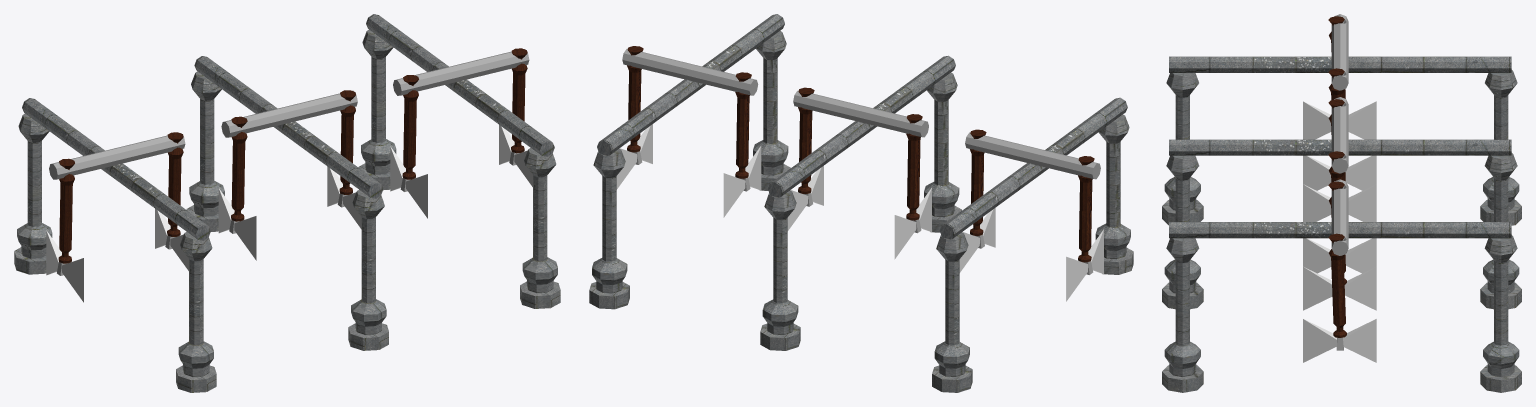
Rendered from AxeRotation.fbx.
The picture shows the model from 3 angles, left to right: view 1: azimuth 30°, elevation 25°; view 2: azimuth 150°, elevation 25°; view 3: azimuth 270°, elevation 25°; orthographic projection.
Parts seen in each view (by area): view 1: UpperPillaer, UpperPillaer.001, UpperPillaer.002, Pillar1, Pillar1.002, Pillar1.001, Pillar2.001, Pillar2, Pillar2.002, Animated Rod.001, Animated Rod, Animated Rod.002 (+12 smaller); view 2: Pillar2, Pillar2.001, Pillar2.002, UpperPillaer, UpperPillaer.001, UpperPillaer.002, Pillar1.001, Pillar1, Pillar1.002, Animated Rod.002, Animated Rod, Animated Rod.001 (+10 smaller); view 3: UpperPillaer, UpperPillaer.001, UpperPillaer.002, Pillar2.002, Pillar1.002, Pillar2, Pillar1, Pillar2.001, Pillar1.001, Circle.004, Animated Rod.001, Animated Rod.002 (+13 smaller).
Boxes of the visible parts, x1,y1,x2,y2 form: UpperPillaer: [194, 56, 383, 198]; UpperPillaer.001: [22, 98, 210, 240]; UpperPillaer.002: [366, 14, 554, 156]; Pillar1: [348, 190, 388, 350]; Pillar1.002: [520, 148, 560, 308]; Pillar1.001: [176, 232, 216, 392]; Pillar2.001: [14, 113, 52, 274]; Pillar2: [186, 71, 224, 231]; Pillar2.002: [358, 29, 396, 190]; Animated Rod.001: [49, 133, 185, 179]; Animated Rod: [221, 90, 357, 137]; Animated Rod.002: [393, 49, 529, 95]; Pillar2: [760, 190, 800, 350]; Pillar2.001: [932, 232, 972, 392]; Pillar2.002: [589, 149, 629, 309]; UpperPillaer: [768, 55, 955, 197]; UpperPillaer.001: [939, 97, 1127, 239]; UpperPillaer.002: [597, 14, 784, 155]; Pillar1.001: [1095, 114, 1133, 274]; Pillar1: [924, 72, 961, 232]; Pillar1.002: [753, 31, 790, 190]; Animated Rod.002: [622, 48, 758, 95]; Animated Rod: [793, 90, 928, 137]; Animated Rod.001: [965, 132, 1100, 179]; UpperPillaer: [1169, 139, 1511, 155]; UpperPillaer.001: [1169, 56, 1511, 72]; UpperPillaer.002: [1169, 222, 1511, 238]; Pillar2.002: [1480, 235, 1521, 392]; Pillar1.002: [1162, 238, 1203, 392]; Pillar2: [1480, 153, 1521, 309]; Pillar1: [1162, 155, 1203, 309]; Pillar2.001: [1480, 70, 1521, 225]; Pillar1.001: [1162, 73, 1203, 225]; Circle.004: [1328, 233, 1346, 337]; Animated Rod.001: [1331, 14, 1348, 90]; Animated Rod.002: [1331, 179, 1348, 255].
Size of the model in its own units: 31.33 by 11.26 by 21.
